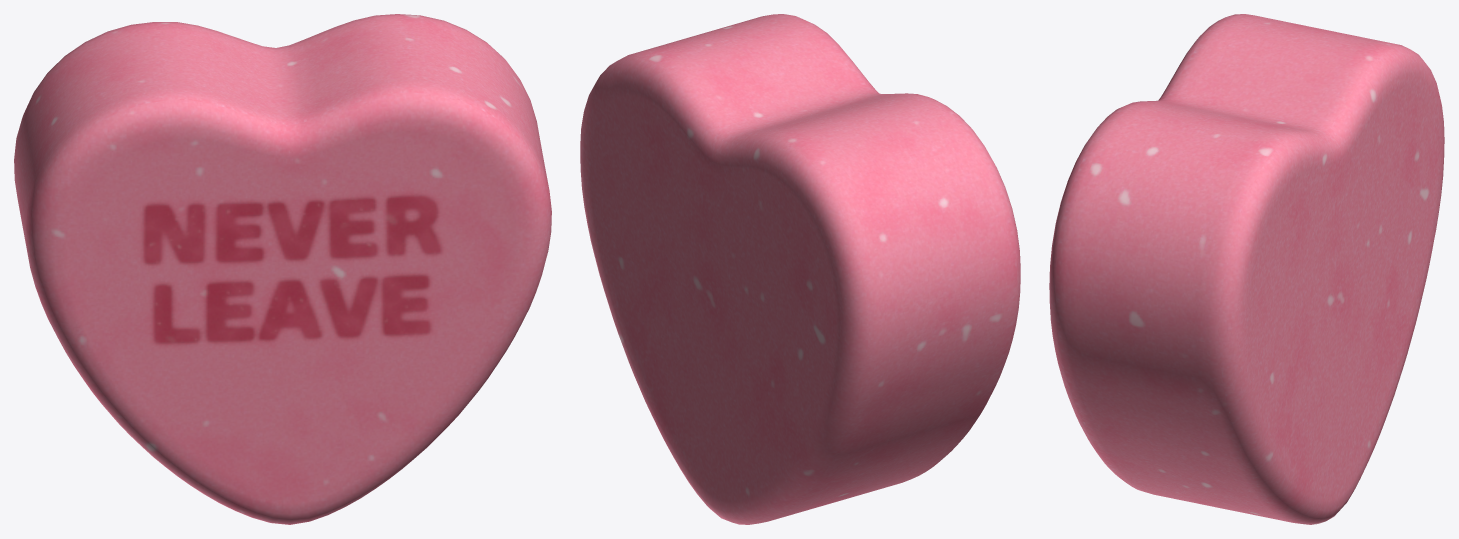
File: heart.gltf
The picture shows the model from 3 angles, left to right: view 1: azimuth 30°, elevation 25°; view 2: azimuth 150°, elevation 25°; view 3: azimuth 270°, elevation 25°; orthographic projection. The views are drawn at different scales.
Parts seen in each view (by area): view 1: Heart_Remesh; view 2: Heart_Remesh; view 3: Heart_Remesh.
Boxes of the visible parts, x1,y1,x2,y2 form: Heart_Remesh: (14,14,551,524); Heart_Remesh: (580,14,1020,524); Heart_Remesh: (1049,14,1444,524).
Size of the model in its own units: 0.1217 by 0.1057 by 0.0898.
1 material, 1 textured.
